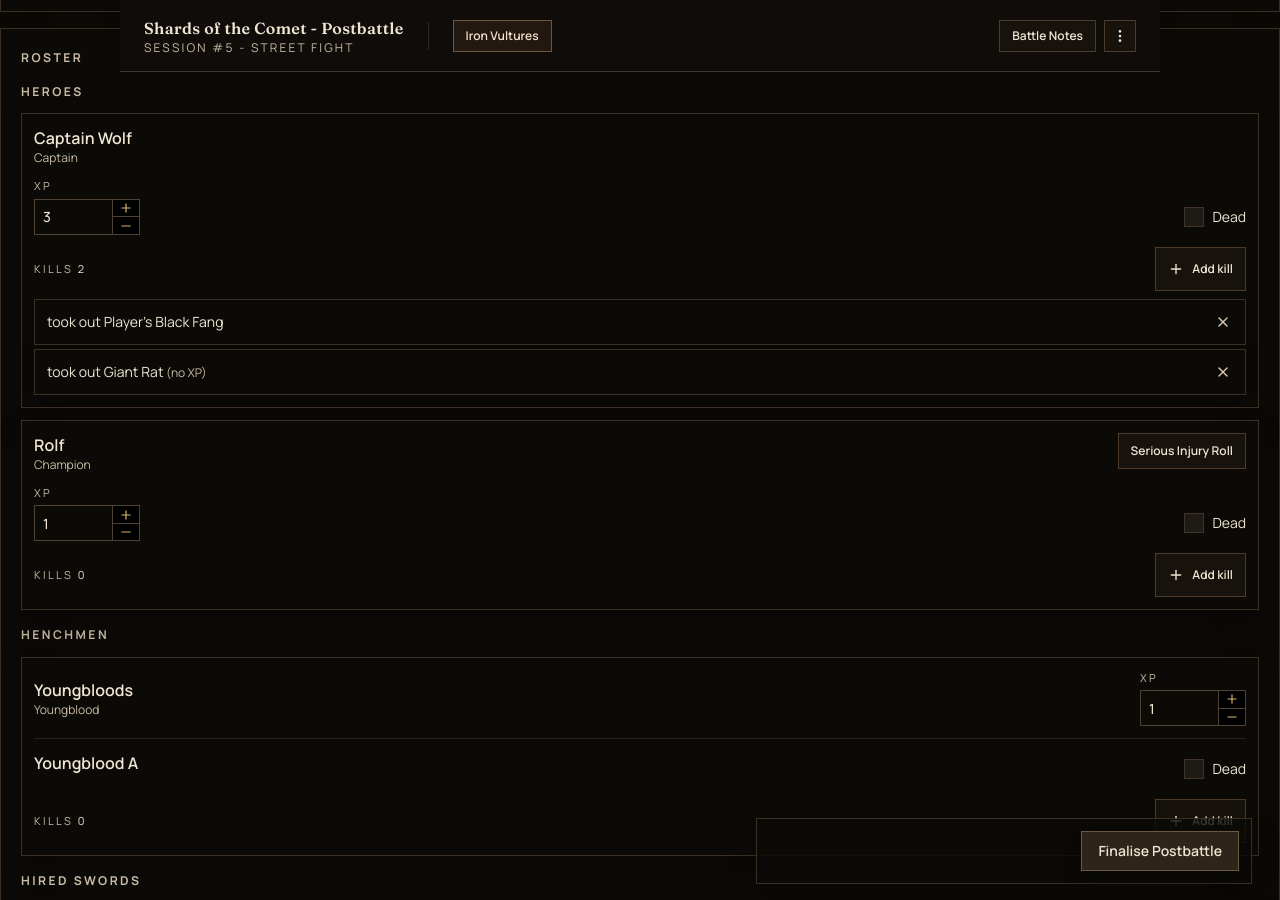
Test: BattlePostbattle requests › flags a complex injury result to apply by hand (BUG-47)
The image size is (1280, 900).
(page scrolled)
Expected: the text "Captain Wolf" is shown, [34, 126, 132, 150]
Click the button "Serious Injury Roll" at (1182, 451), box [1118, 433, 1246, 469]
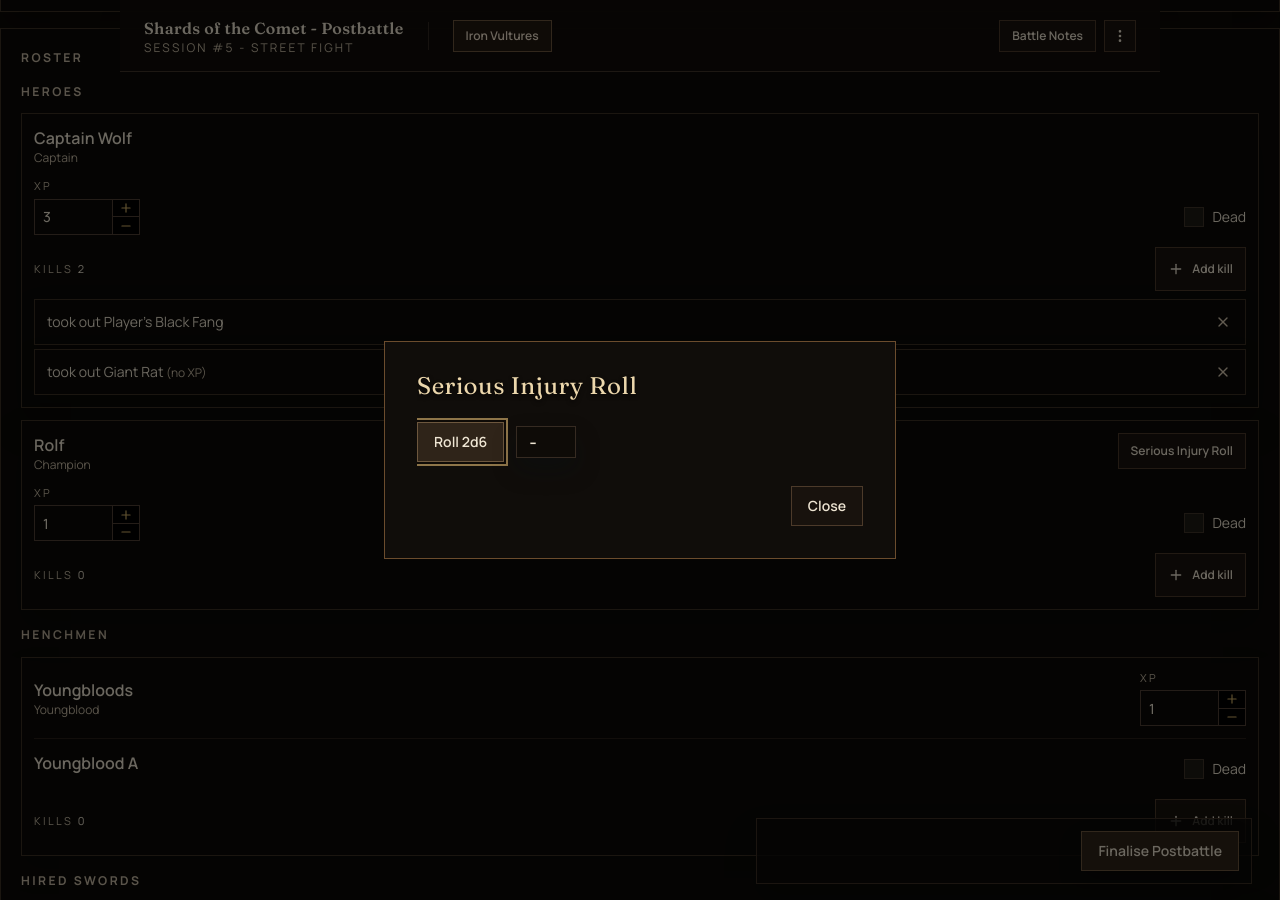
Click the button "Roll 2d6" at (461, 442), box [417, 422, 504, 462]
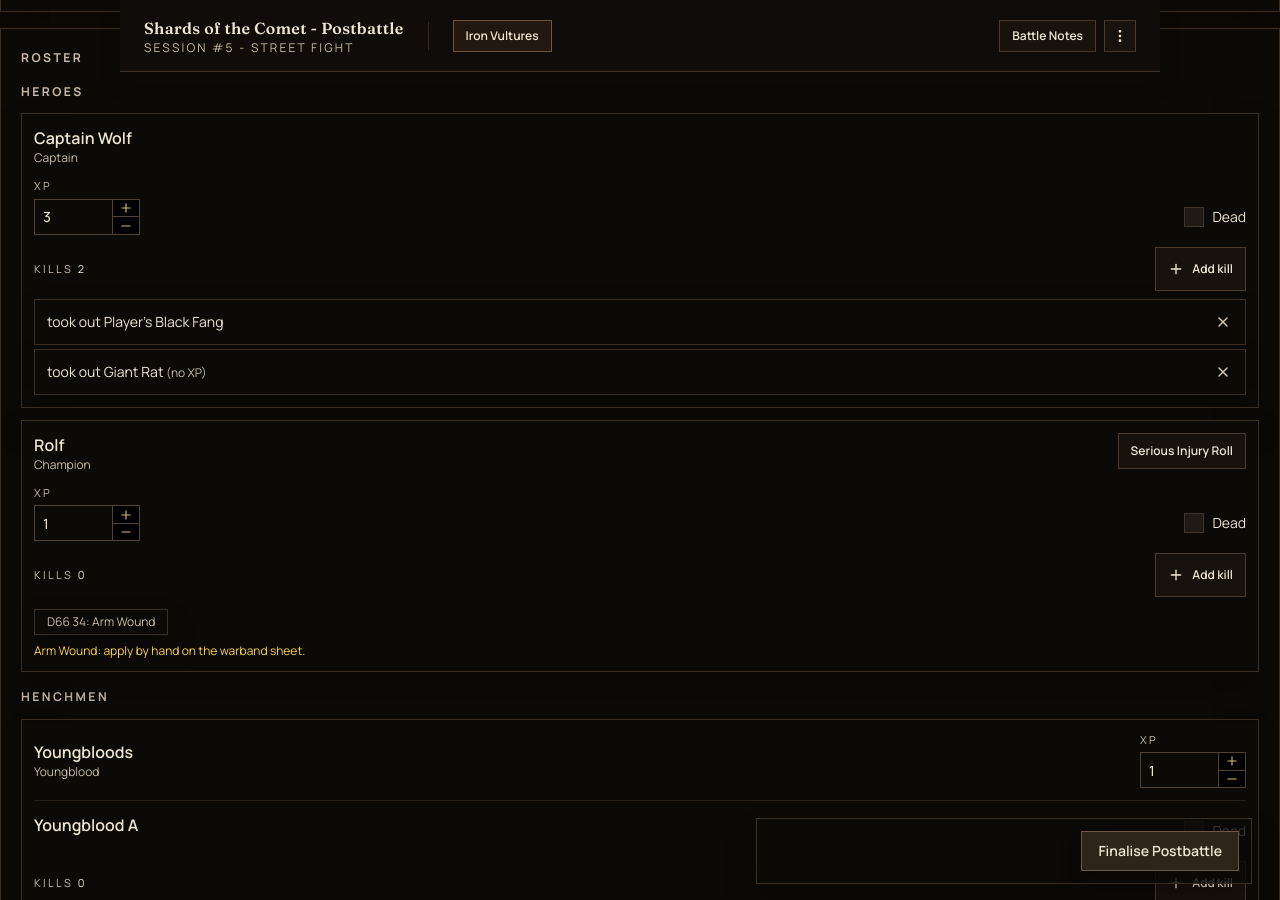
Now the text "Arm Wound: apply by hand on the warband sheet." is shown, box [34, 642, 305, 660]
